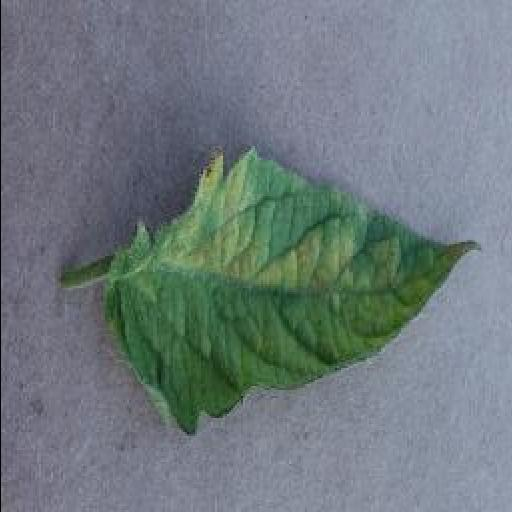disease_tomato: (102, 150, 482, 440)
